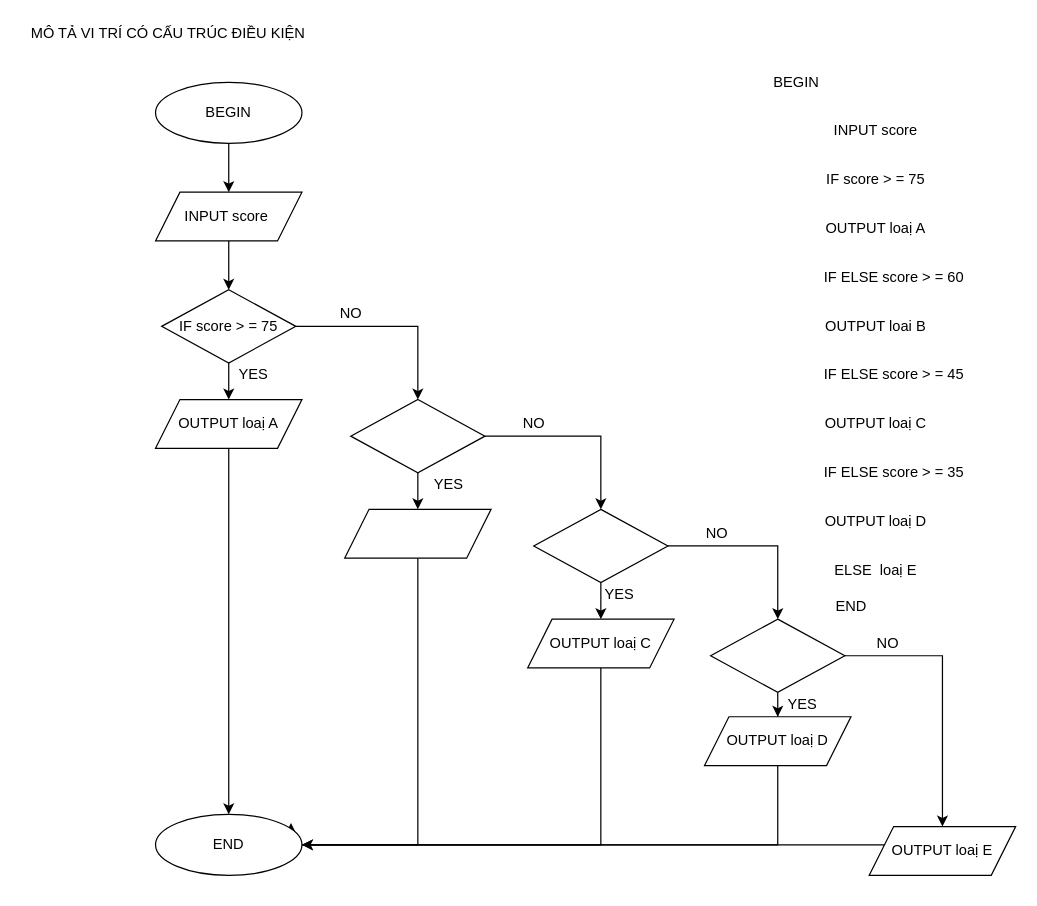
Some shapes in this 1037 by 906 pixel diagram are drawn without their labels. Here are the shapes that lost their labels. From the top down, the box of each, then its label:
(350, 398, 485, 473): IF score > = 60
(343, 508, 491, 558): OUTPUT loaị B
(533, 508, 668, 583): IF score > = 45
(709, 618, 845, 692): IF score > = 35
